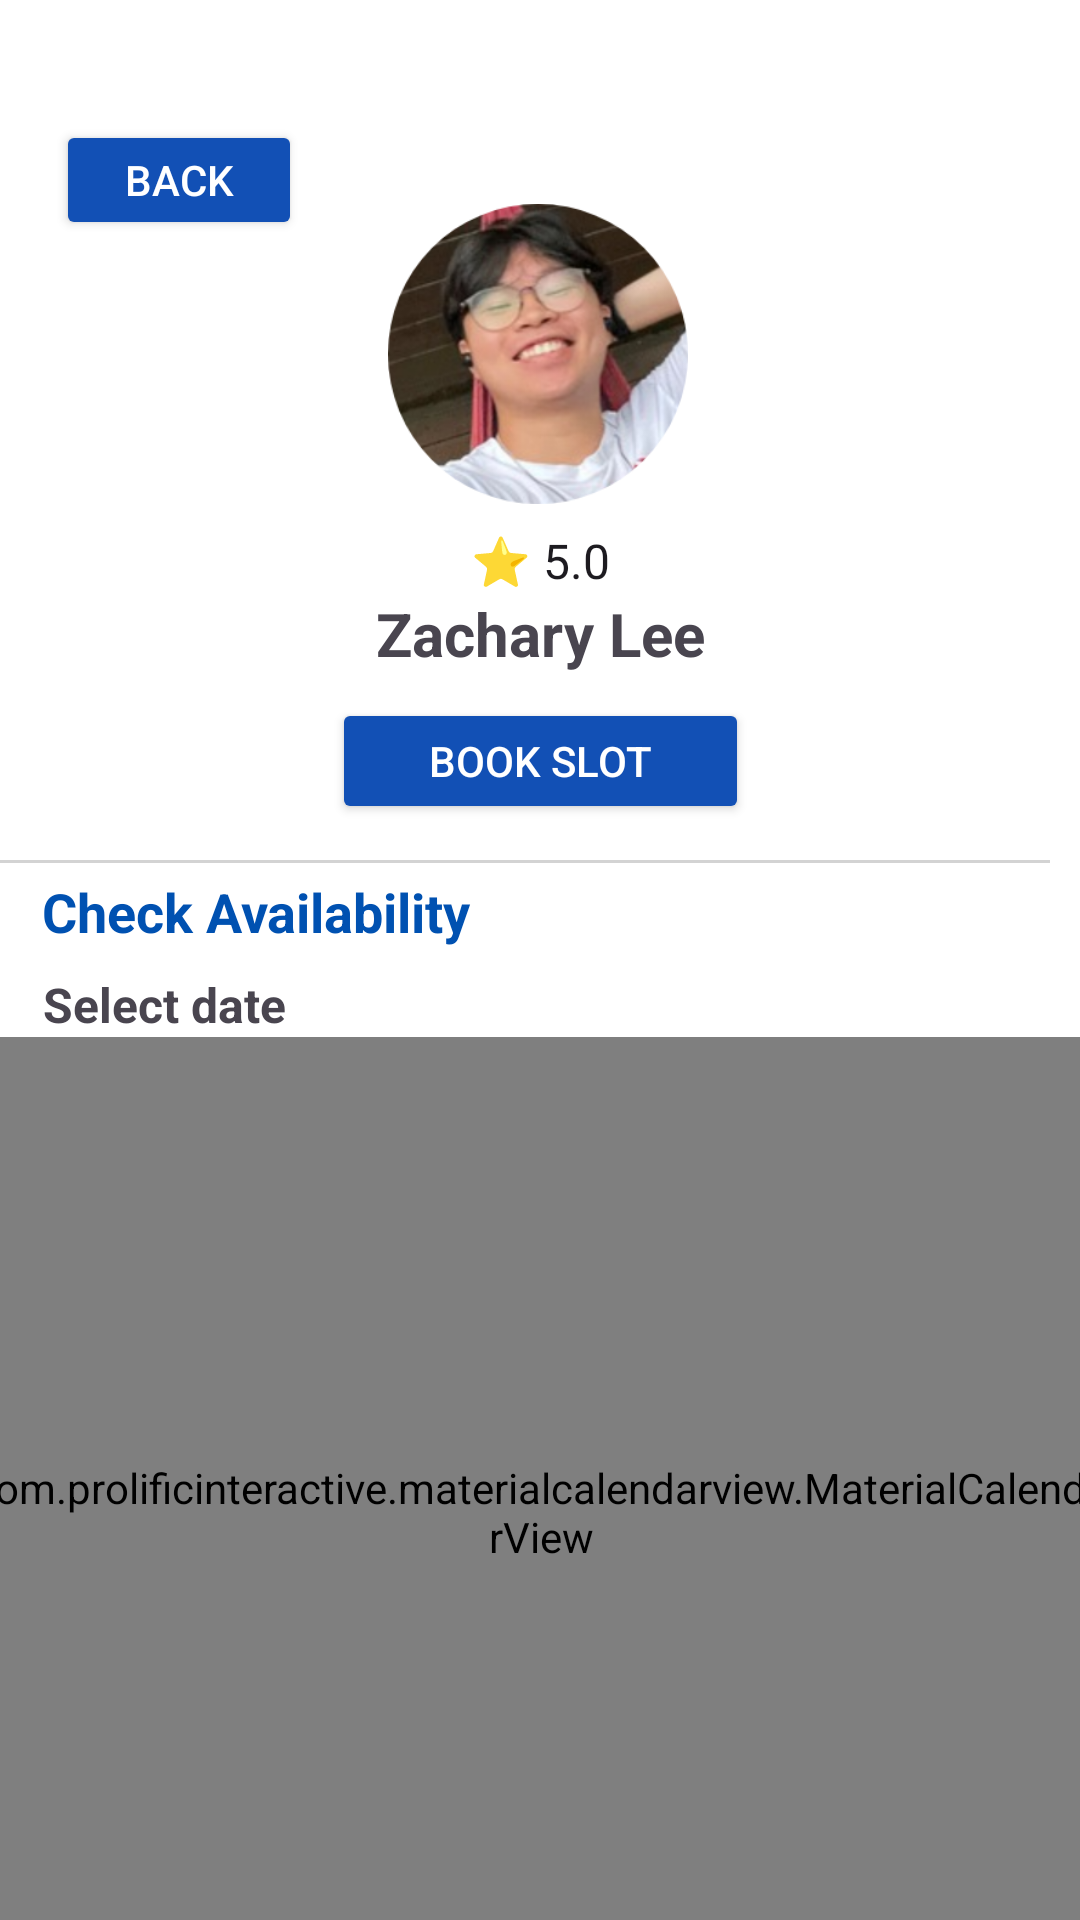

Icons on this 1080x1920 Android screen, each with the point to tap as (x=x, y=y):
Instructor Profile Picture: (x=538, y=354)
